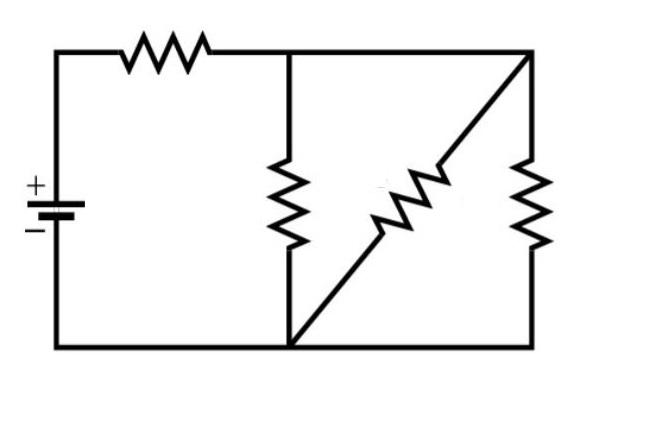resistor: (346, 137, 462, 251), (98, 17, 236, 92), (496, 134, 570, 268), (256, 143, 314, 265)
